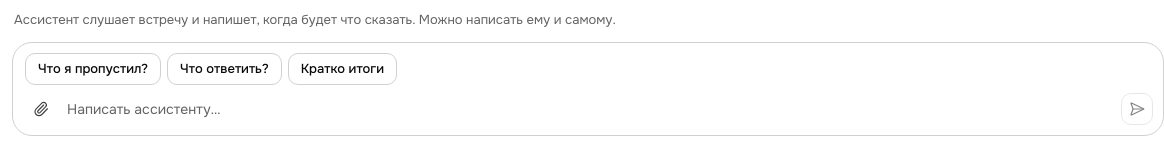
Enter отправляет, поле очищается и фокус остаётся в нём; сообщение сразу в ленте
The width and height of the screenshot is (1164, 160).
Step 1. Type "что с бюджетом?" into the dropdown named "Сообщение ассистенту" → (589, 108), box [63, 92, 1115, 124]
Then press Enter
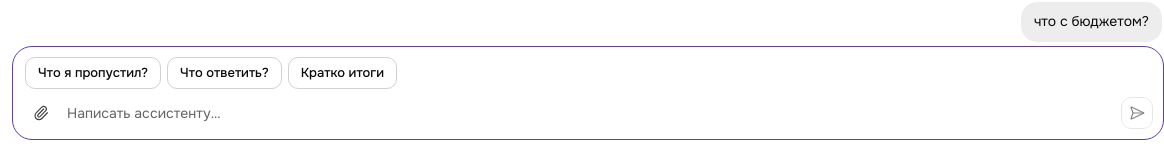
expect the list reads "что с бюджетом?": met, box [1034, 12, 1149, 30]
